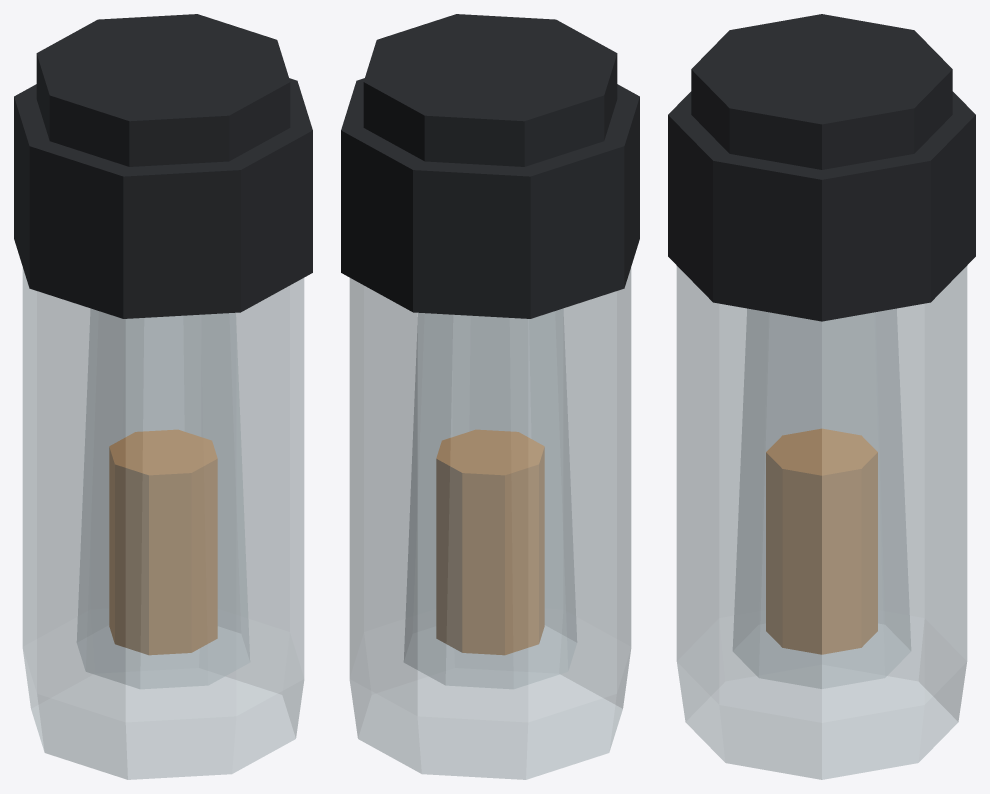
Rendered from SM_LPI_Ware_SpiceJar_01.fbx.
3 views of the same model, side by side, from view 1: azimuth 30°, elevation 25°; view 2: azimuth 150°, elevation 25°; view 3: azimuth 270°, elevation 25° (orthographic).
Parts seen in each view (by area): view 1: SM_LPI_Ware_SpiceJar_01; view 2: SM_LPI_Ware_SpiceJar_01; view 3: SM_LPI_Ware_SpiceJar_01.
Part boxes in pixels (bbox=[...]): SM_LPI_Ware_SpiceJar_01: bbox=[14, 14, 312, 779]; SM_LPI_Ware_SpiceJar_01: bbox=[341, 14, 639, 779]; SM_LPI_Ware_SpiceJar_01: bbox=[668, 14, 975, 779].
Bounding box in the file's own units: 0.0551 × 0.129 × 0.0551.
